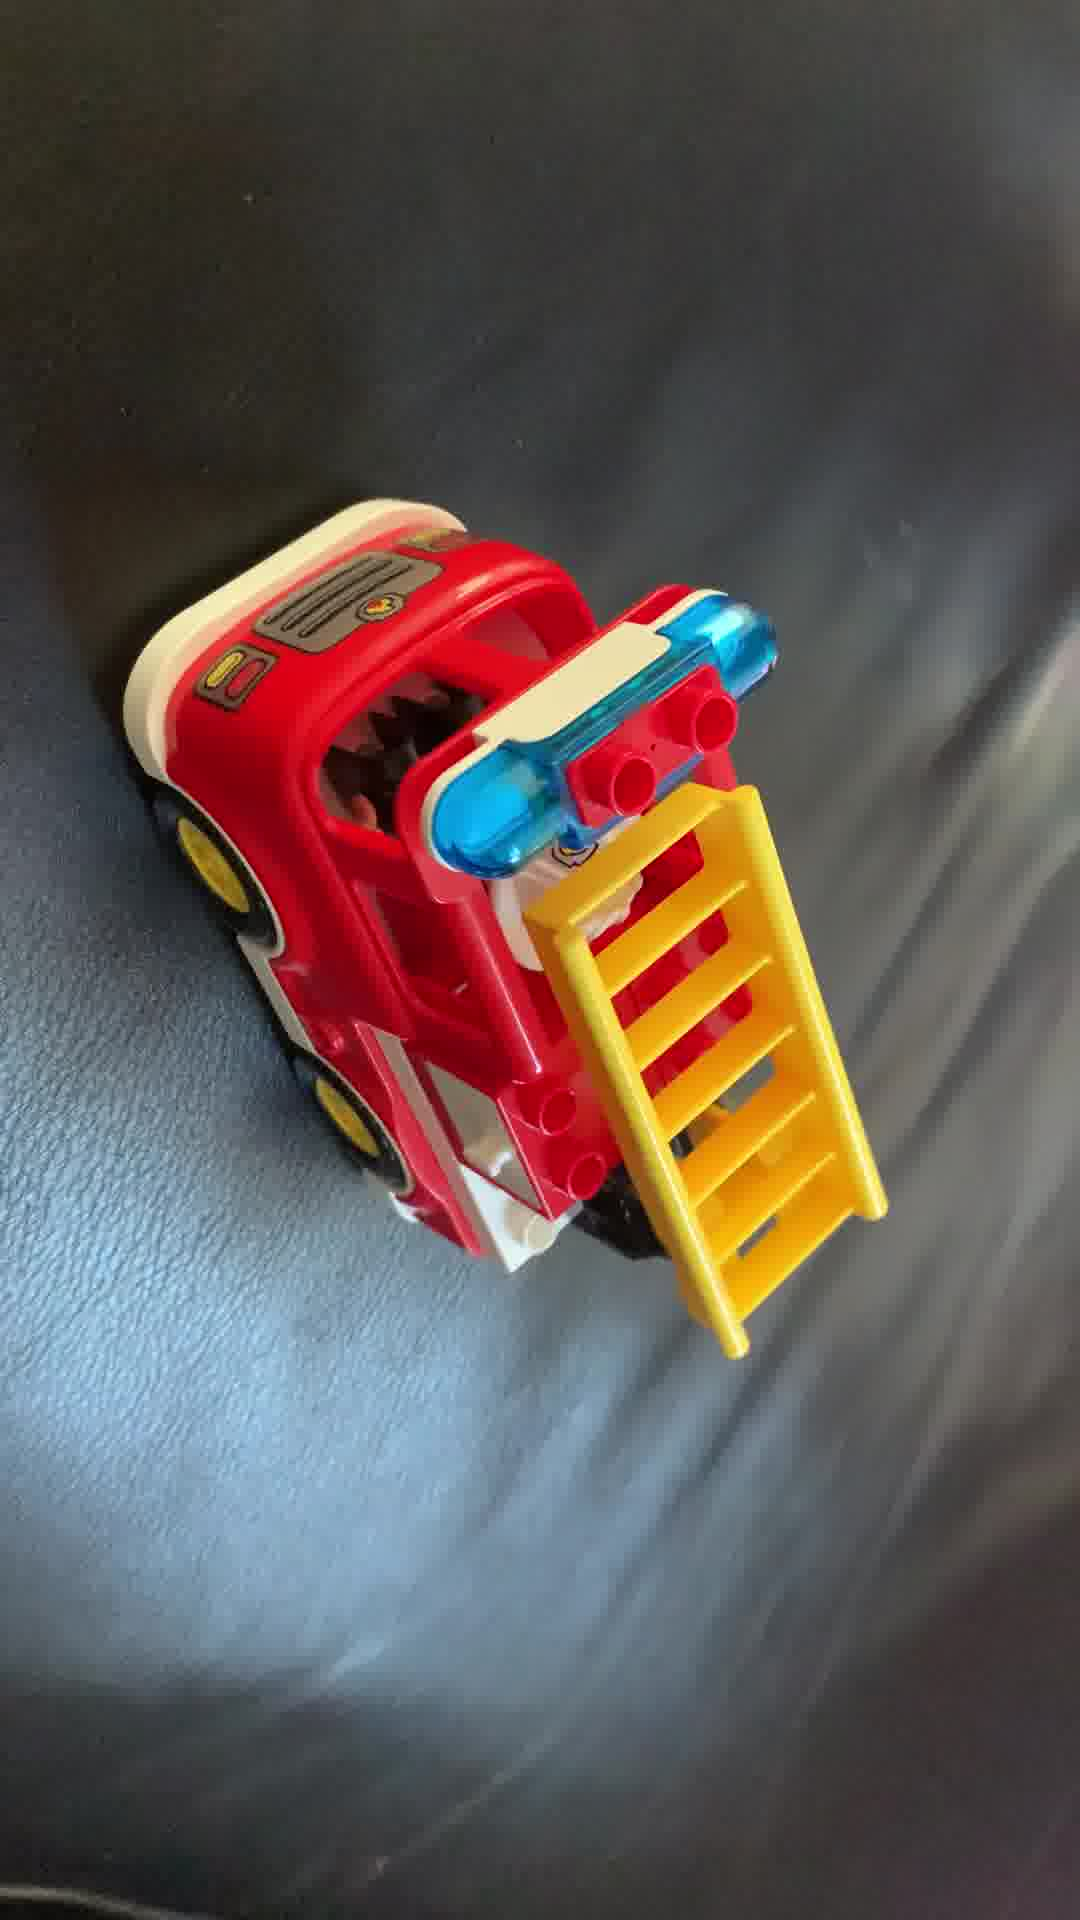lego fire truck: (113, 491, 895, 1366)
